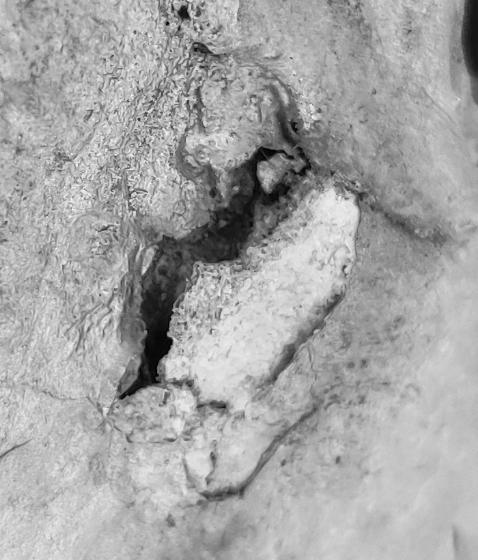crack: (1, 0, 478, 559)
